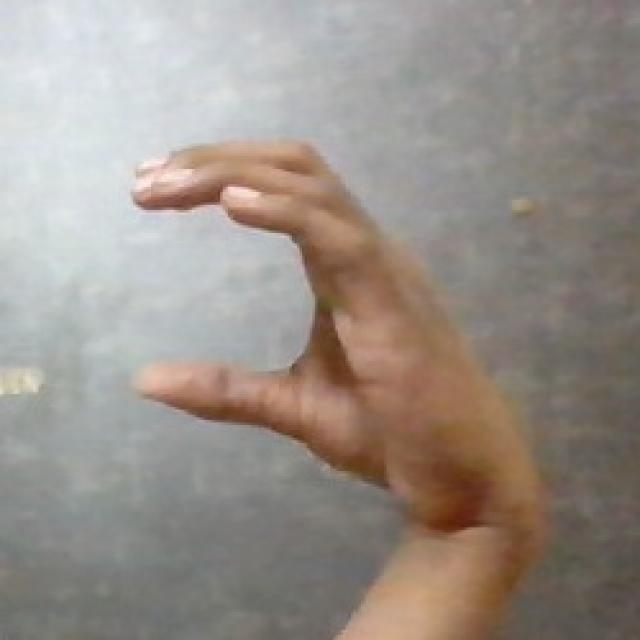Alphabet-C: (109, 100, 495, 474)
